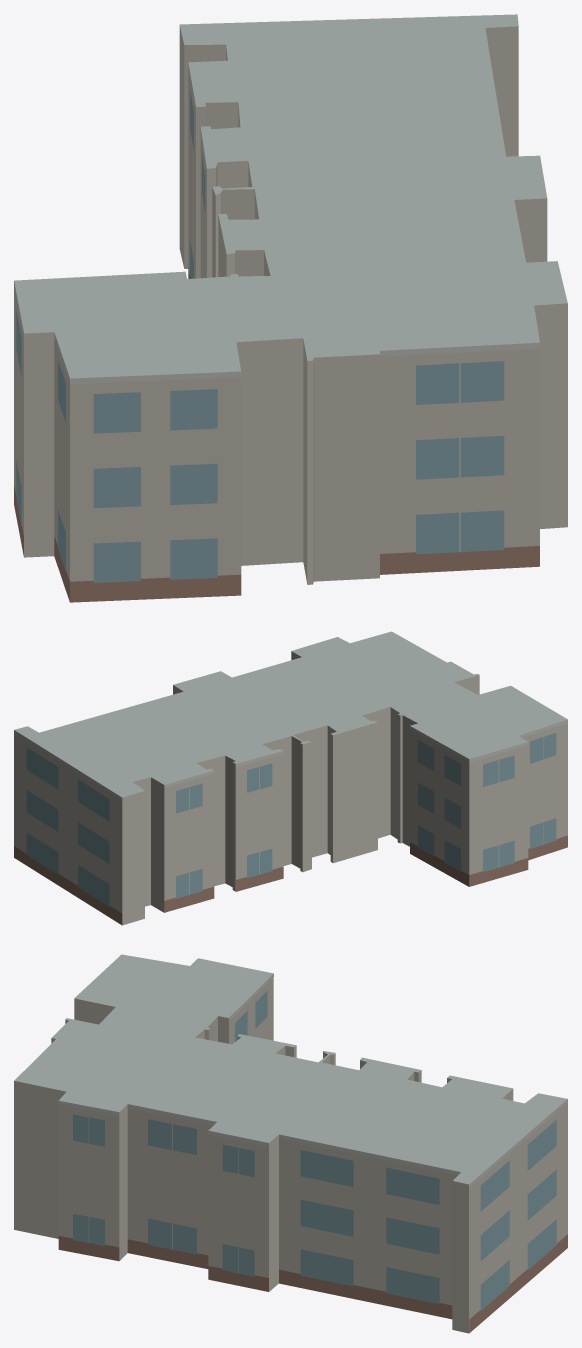
Rendered from survey-upis-32533992.glb.
The picture shows the model from 3 angles, top to bottom: view 1: azimuth 30°, elevation 25°; view 2: azimuth 150°, elevation 25°; view 3: azimuth 270°, elevation 25°; orthographic projection. The views are drawn at different scales.
Parts seen in each view (by area): view 1: survey-upis-32533992.tmp; view 2: survey-upis-32533992.tmp; view 3: survey-upis-32533992.tmp.
Boxes of the visible parts, box(x1,y1,x2,y2) form: survey-upis-32533992.tmp: box(14, 14, 567, 602); survey-upis-32533992.tmp: box(14, 631, 567, 925); survey-upis-32533992.tmp: box(14, 954, 567, 1333).
Size of the model in its own units: 32.13 by 9.7 by 32.68.
